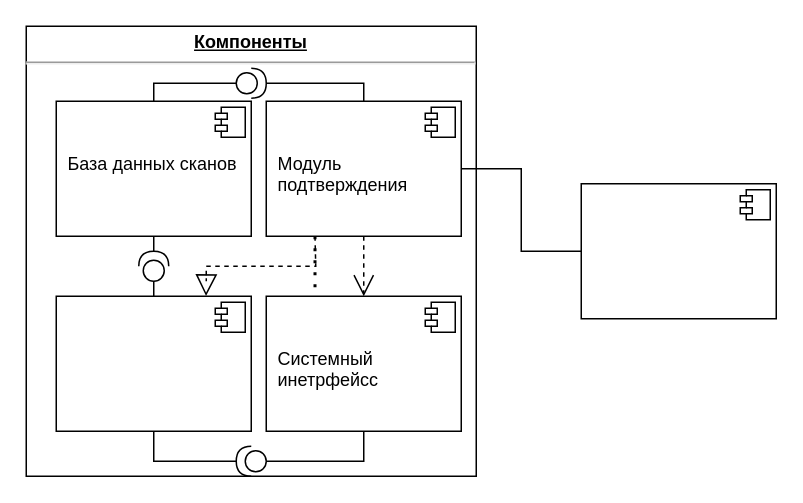
Image size: 803x503. Some labels were removed from this diagram. Here are the shapes that lost their labels. From the top down, the centre of each, then its label:
At [678,250]: "Скан багажа пользователя".
At [153,363]: "Нейронная сеть".
